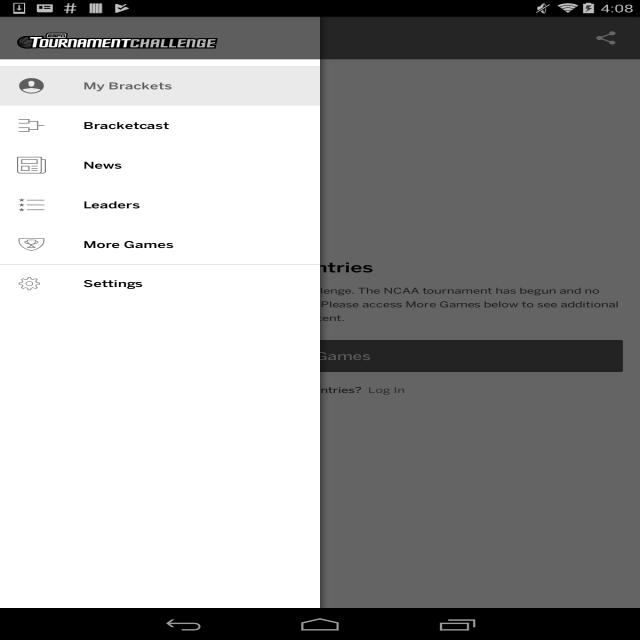Button: (17, 340, 623, 372)
ImageButton: (9, 17, 68, 59)
ImageView: (17, 32, 218, 48), (0, 264, 320, 265)
TextView: (0, 286, 640, 327), (0, 260, 640, 276), (0, 385, 640, 395), (85, 30, 316, 46), (83, 80, 303, 92), (83, 120, 303, 131), (83, 239, 303, 250), (83, 278, 303, 289), (83, 160, 303, 170), (83, 200, 303, 210), (580, 22, 632, 54), (17, 116, 49, 135), (17, 235, 49, 254), (17, 77, 49, 95), (17, 156, 49, 174), (17, 196, 49, 214), (17, 276, 49, 291)
